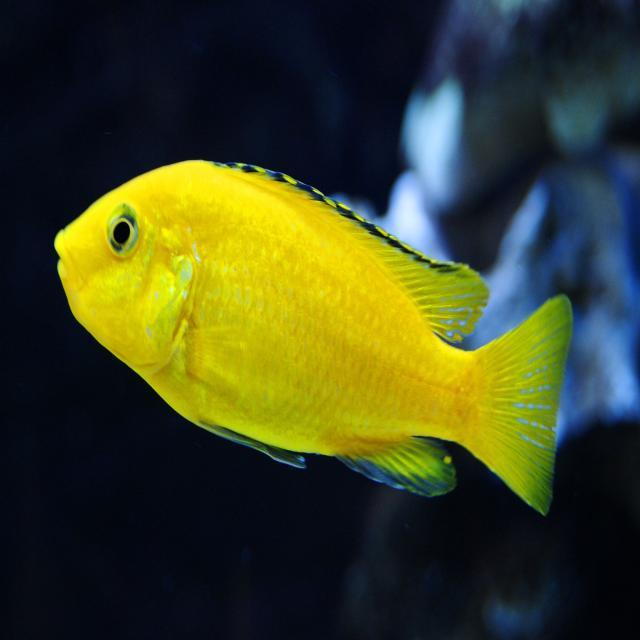YellowCichlid: (46, 128, 593, 580)
